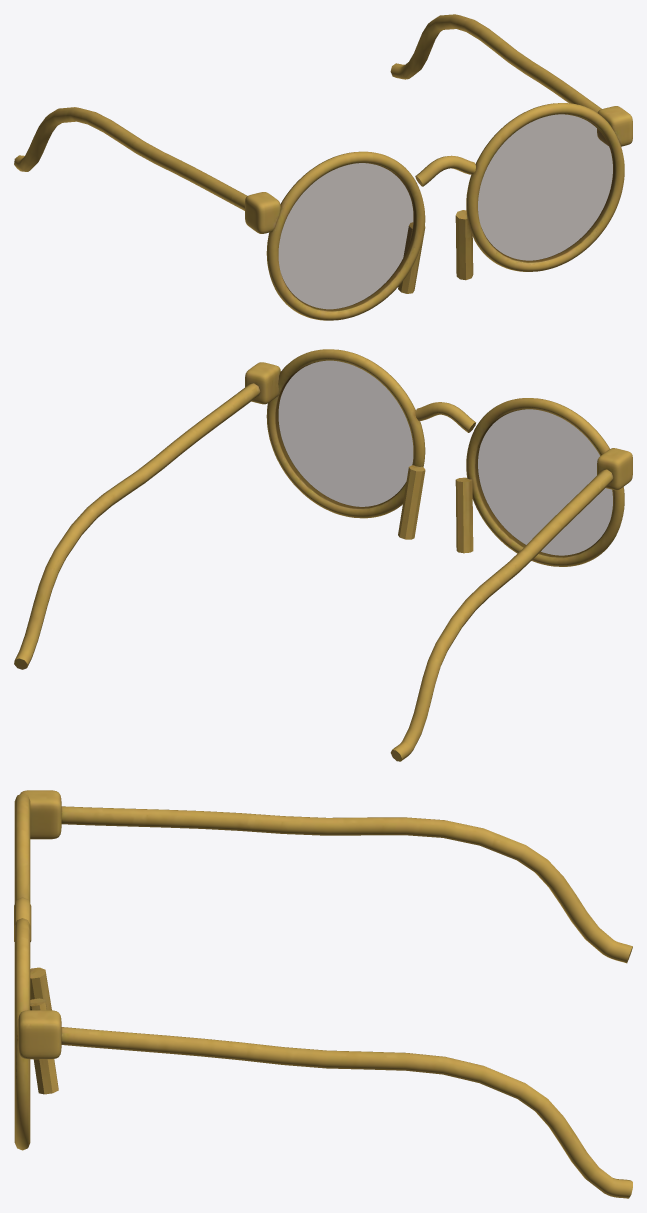
File: round-gold.glb
3 views of the same model, one above another, from view 1: azimuth 30°, elevation 25°; view 2: azimuth 150°, elevation 25°; view 3: azimuth 270°, elevation 25° (orthographic). The views are drawn at different scales.
Parts seen in each view (by area): view 1: lens_tint, gold_frame; view 2: lens_tint, gold_frame; view 3: gold_frame.
Boxes of the visible parts, left/top/right/bottom form: lens_tint: left=279, top=114, right=615, bottom=310; gold_frame: left=14, top=14, right=632, bottom=320; lens_tint: left=276, top=361, right=612, bottom=557; gold_frame: left=14, top=349, right=632, bottom=761; gold_frame: left=14, top=790, right=632, bottom=1198.
Size of the model in its own units: 0.1354 by 0.0544 by 0.1427.
Materials: 2 (1 with a texture image).
